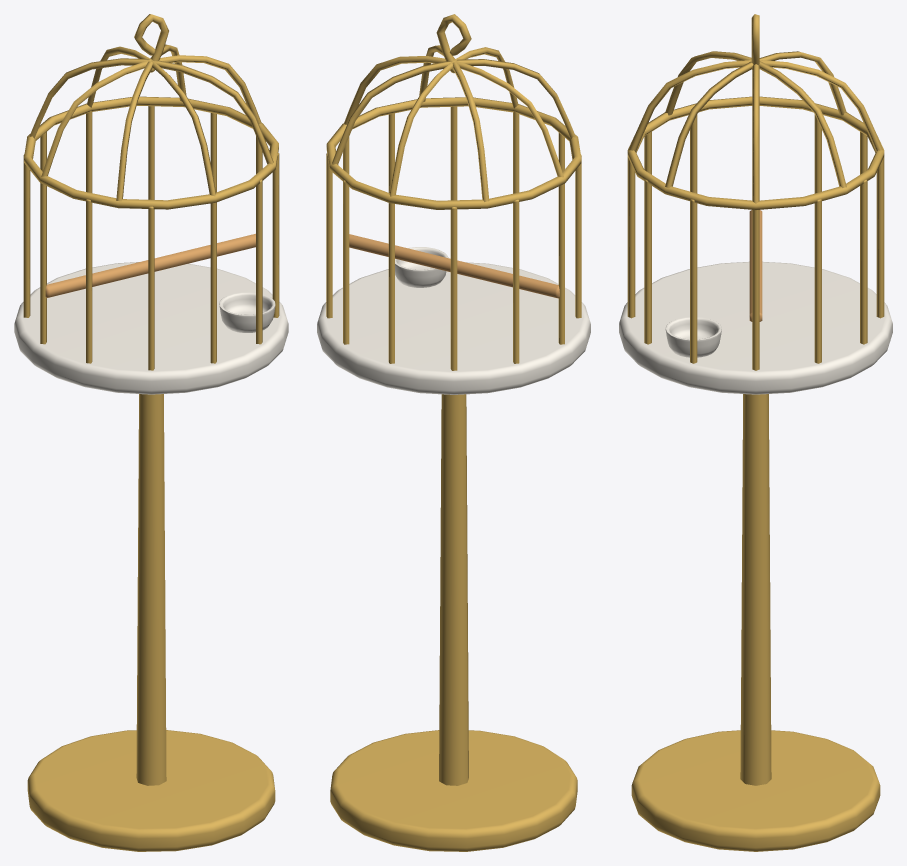
Rendered from petroom_bird_cage.glb.
3 renders of one model, left to right at view 1: azimuth 30°, elevation 25°; view 2: azimuth 150°, elevation 25°; view 3: azimuth 270°, elevation 25°, orthographic.
Parts seen in each view (by area): view 1: petroom_bird_cage_mesh; view 2: petroom_bird_cage_mesh; view 3: petroom_bird_cage_mesh.
Part boxes in pixels (left/top/right/bottom): petroom_bird_cage_mesh: left=14, top=14, right=288, bottom=851; petroom_bird_cage_mesh: left=317, top=14, right=590, bottom=851; petroom_bird_cage_mesh: left=619, top=14, right=892, bottom=851.
Bounding box in the file's own units: 0.44 × 1.4 × 0.44.
